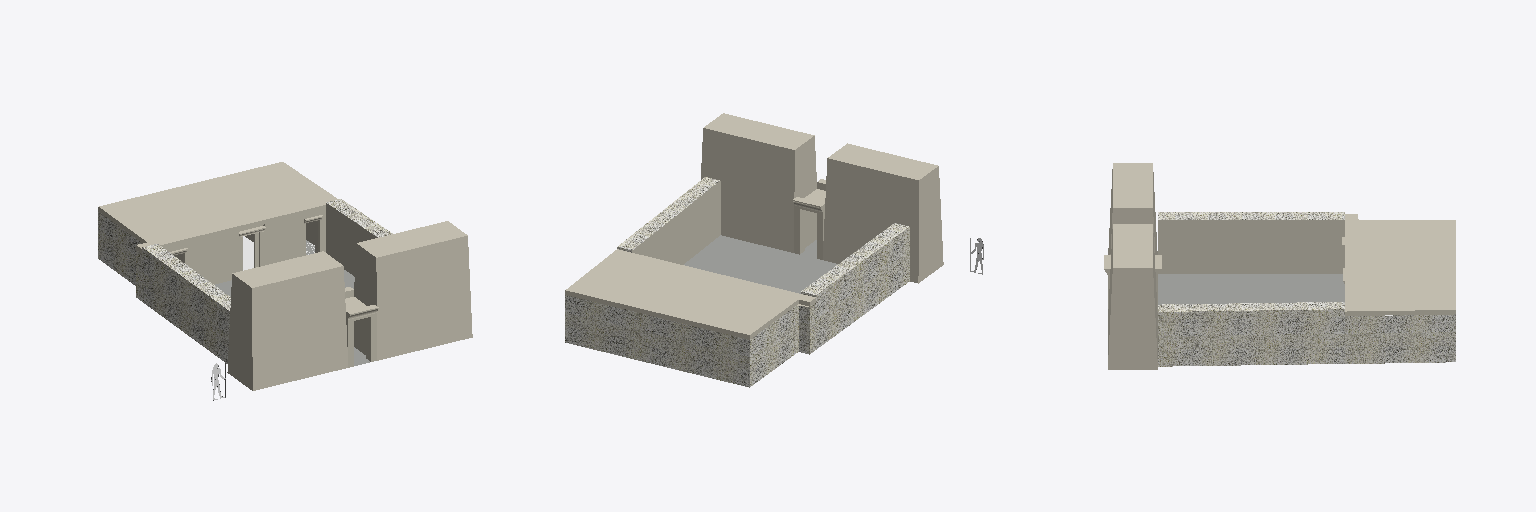
The picture shows the model from 3 angles: view 1: azimuth 30°, elevation 25°; view 2: azimuth 150°, elevation 25°; view 3: azimuth 270°, elevation 25°; orthographic projection.
Visible parts, largest first — view 1: Mesh7 Model, Mesh3 Roof1 Model, Mesh1 PylonGate1 Model, Mesh2 Centre_Chapel_Gate1 Model; view 2: Mesh7 Model, Mesh3 Roof1 Model, Mesh1 PylonGate1 Model; view 3: Mesh7 Model, Mesh3 Roof1 Model.
Boxes of the visible parts, x1=… form: Mesh7 Model: x1=98, y1=199, x2=472, y2=390; Mesh3 Roof1 Model: x1=98, y1=162, x2=338, y2=253; Mesh1 PylonGate1 Model: x1=345, y1=287, x2=378, y2=367; Mesh2 Centre_Chapel_Gate1 Model: x1=239, y1=225, x2=265, y2=271; Mesh7 Model: x1=565, y1=113, x2=943, y2=387; Mesh3 Roof1 Model: x1=565, y1=249, x2=815, y2=339; Mesh1 PylonGate1 Model: x1=793, y1=179, x2=825, y2=259; Mesh7 Model: x1=1108, y1=163, x2=1455, y2=369; Mesh3 Roof1 Model: x1=1345, y1=214, x2=1455, y2=315.
Bounding box in the file's own units: 11.98 × 4.42 × 13.98.
5 materials, 2 textured.